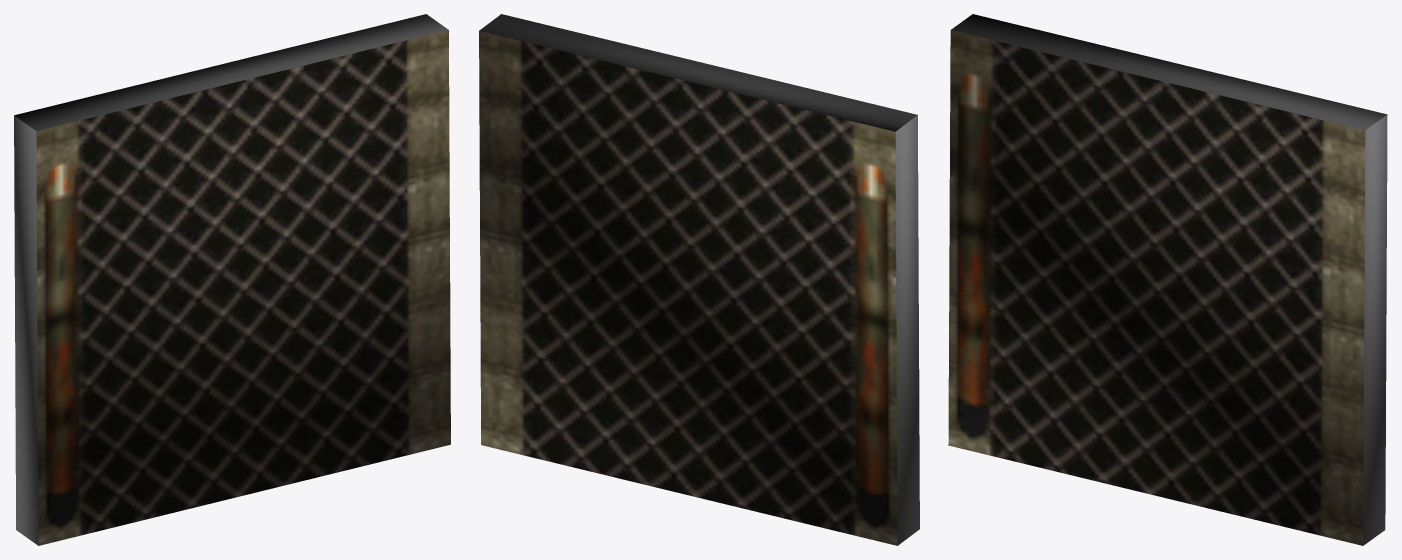
File: cade.hrc.gltf
3 renders of one model, left to right at view 1: azimuth 30°, elevation 25°; view 2: azimuth 150°, elevation 25°; view 3: azimuth 330°, elevation 25°, orthographic.
Visible parts, largest first — view 1: cadeBone0_null; view 2: cadeBone0_null; view 3: cadeBone0_null.
Boxes of the visible parts, x1,y1,x2,y2 form: cadeBone0_null: [14, 14, 450, 545]; cadeBone0_null: [479, 14, 919, 545]; cadeBone0_null: [948, 14, 1387, 545].
Bounding box in the file's own units: 51.33 × 49.08 × 5.41.
2 materials, 1 textured.
